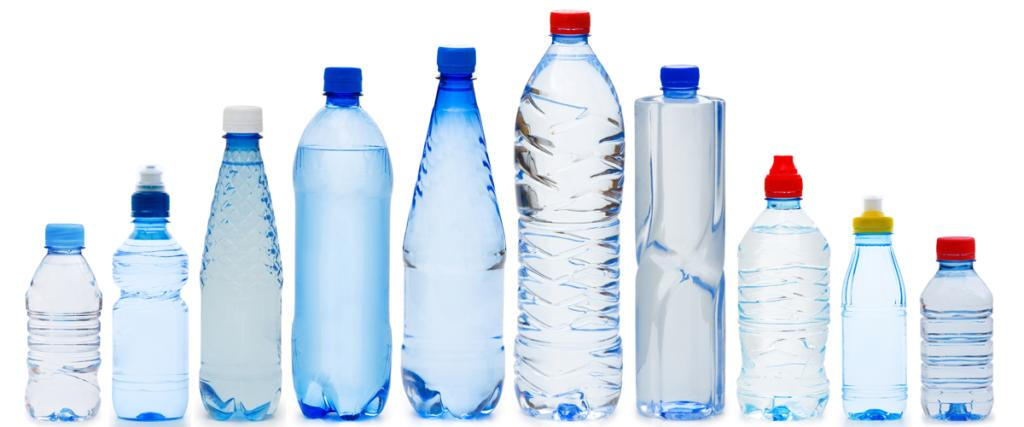bottle: (102, 9, 628, 426), (12, 39, 402, 423), (717, 8, 835, 425), (287, 4, 399, 423), (616, 56, 732, 424), (837, 3, 913, 426), (196, 101, 287, 423), (106, 162, 192, 423), (16, 214, 109, 424), (915, 215, 999, 423)
